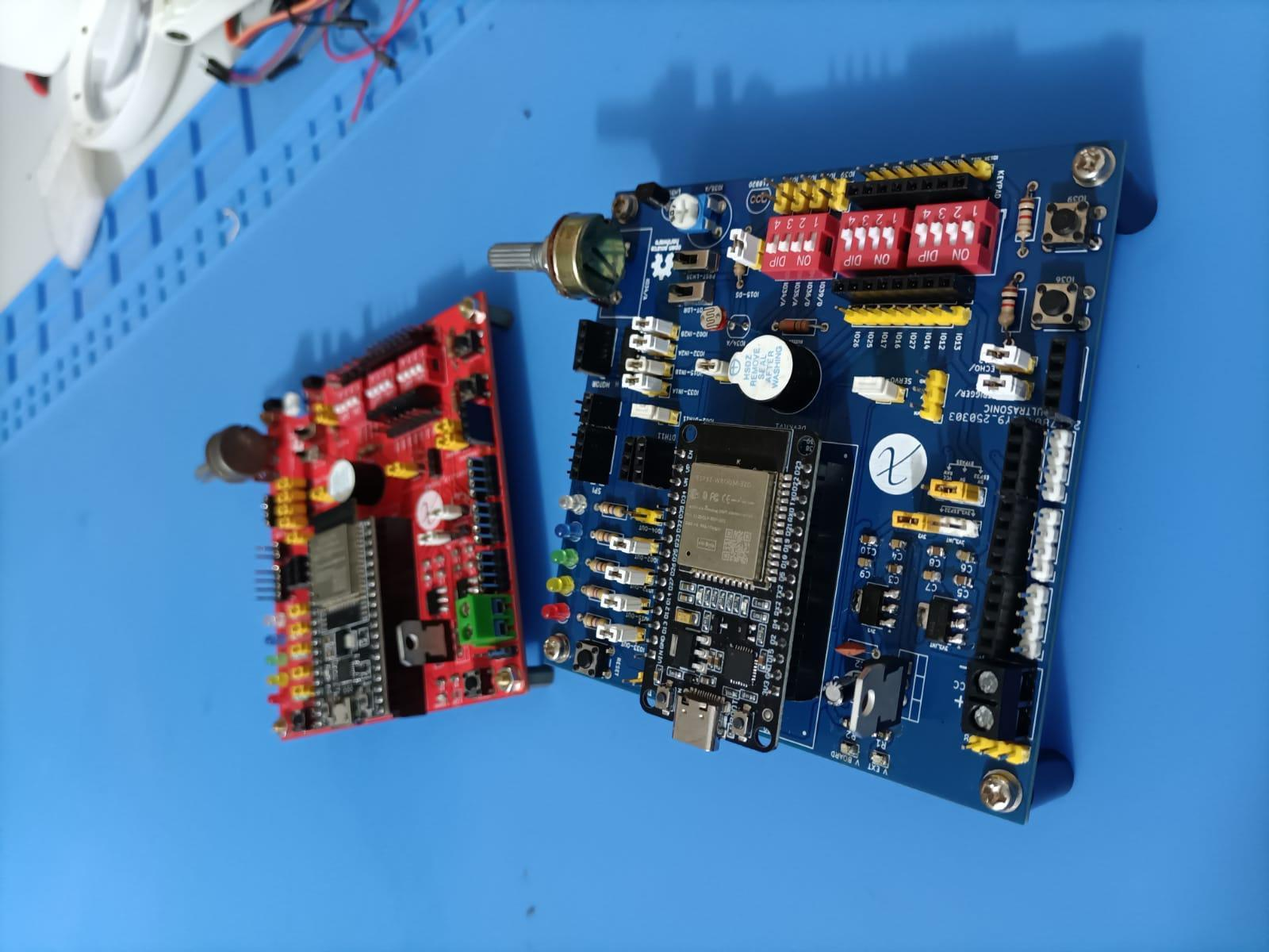LED: (556, 487, 586, 515), (539, 600, 574, 624), (543, 575, 573, 597), (551, 547, 579, 570), (553, 519, 584, 539), (261, 609, 285, 632), (260, 672, 289, 691), (262, 630, 288, 647), (263, 651, 289, 667), (263, 693, 293, 705)
Resistencia: (1015, 195, 1039, 244), (998, 280, 1020, 331), (772, 318, 820, 336), (580, 611, 610, 633), (583, 557, 618, 575), (582, 584, 612, 603), (590, 525, 618, 545), (595, 502, 627, 519), (443, 329, 456, 359), (732, 261, 743, 280)
